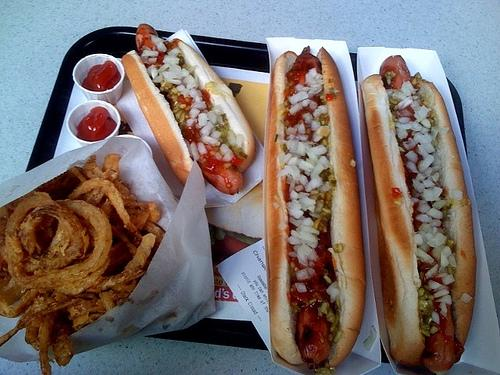onion: (5, 193, 112, 290), (2, 290, 84, 346), (69, 177, 136, 232), (84, 166, 120, 206), (122, 233, 157, 273), (38, 310, 58, 375), (66, 298, 106, 320), (123, 200, 150, 231), (410, 98, 432, 128), (413, 132, 436, 153), (305, 68, 324, 90), (288, 91, 310, 105), (418, 154, 434, 172), (291, 142, 311, 156), (326, 281, 339, 302), (306, 144, 327, 156), (310, 162, 324, 180), (201, 134, 221, 146), (307, 84, 323, 99), (200, 121, 215, 136), (290, 217, 314, 226), (163, 73, 181, 85), (169, 63, 182, 78), (432, 246, 444, 262), (427, 207, 443, 219), (440, 250, 450, 268), (288, 208, 304, 219), (206, 111, 218, 125), (289, 102, 303, 114), (434, 232, 446, 245), (396, 127, 408, 140), (163, 55, 180, 64), (192, 101, 207, 111), (432, 186, 442, 201), (300, 244, 312, 256), (434, 289, 450, 298), (428, 280, 442, 290), (301, 196, 315, 206), (290, 230, 305, 239), (396, 122, 414, 129), (292, 165, 300, 180), (187, 66, 198, 76), (301, 98, 312, 108), (189, 108, 200, 118), (180, 88, 190, 98), (438, 302, 448, 312), (432, 156, 442, 166), (310, 155, 322, 163), (176, 83, 186, 92), (298, 192, 310, 199), (310, 210, 320, 218), (438, 266, 448, 274), (415, 173, 425, 181), (429, 220, 441, 226), (296, 158, 304, 166), (299, 215, 306, 220), (200, 110, 208, 114), (314, 117, 320, 122), (194, 84, 200, 89)
